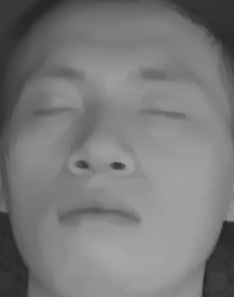blink: (135, 97, 190, 129), (27, 96, 79, 126)
mouth: (50, 188, 150, 237)
